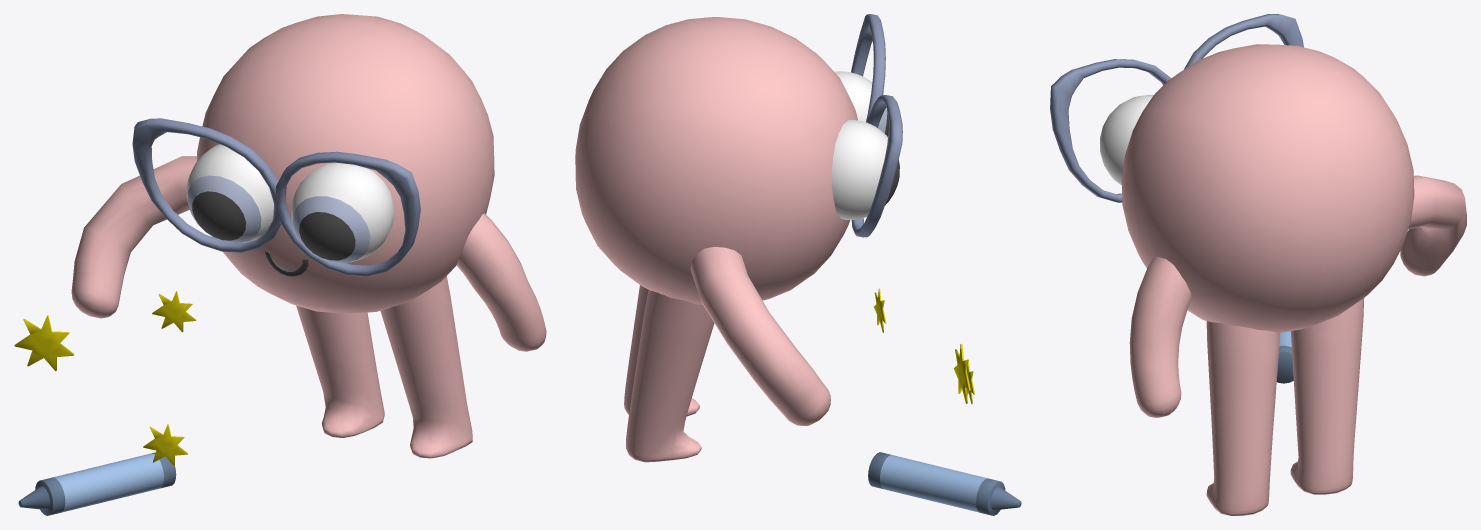
The picture shows the model from 3 angles, left to right: view 1: azimuth 30°, elevation 25°; view 2: azimuth 150°, elevation 25°; view 3: azimuth 270°, elevation 25°; orthographic projection. The views are drawn at different scales.
Parts seen in each view (by area): view 1: pCube4, orangeLegs, pCylinder3, r arm, eyes-whiteMTL, l arm, crayon-Blue.1 (×2), eyes-blackMTL, eyes-blueMTL, star.1, star, star.2; view 2: pCube4, orangeLegs, r arm, eyes-whiteMTL, crayon-Blue.1 (×2), pCylinder3, star.1; view 3: pCube4, orangeLegs, l arm, pCylinder3, r arm, eyes-whiteMTL, crayon-Blue.1.
Boxes of the visible parts, <box> form: pCube4: <box>197,14,494,313</box>; orangeLegs: <box>296,276,472,458</box>; pCylinder3: <box>132,118,420,276</box>; r arm: <box>71,156,196,318</box>; eyes-whiteMTL: <box>186,144,394,262</box>; l arm: <box>456,213,546,351</box>; crayon-Blue.1 (×2): <box>18,452,176,515</box>; eyes-blackMTL: <box>192,191,355,260</box>; eyes-blueMTL: <box>187,175,370,262</box>; star.1: <box>14,315,74,371</box>; star: <box>143,424,187,465</box>; star.2: <box>152,291,195,332</box>; pCube4: <box>575,17,857,305</box>; orangeLegs: <box>624,285,714,462</box>; r arm: <box>690,246,830,425</box>; eyes-whiteMTL: <box>831,71,887,219</box>; crayon-Blue.1 (×2): <box>868,452,1021,515</box>; pCylinder3: <box>851,14,902,237</box>; star.1: <box>953,344,970,403</box>; pCube4: <box>1121,44,1414,333</box>; orangeLegs: <box>1206,298,1364,515</box>; l arm: <box>1129,256,1192,417</box>; pCylinder3: <box>1050,14,1303,202</box>; r arm: <box>1400,175,1466,276</box>; eyes-whiteMTL: <box>1100,95,1153,185</box>; crayon-Blue.1: <box>1276,345,1293,383</box>.
Bounding box in the file's own units: 0.0238 × 0.0208 × 0.0193.
